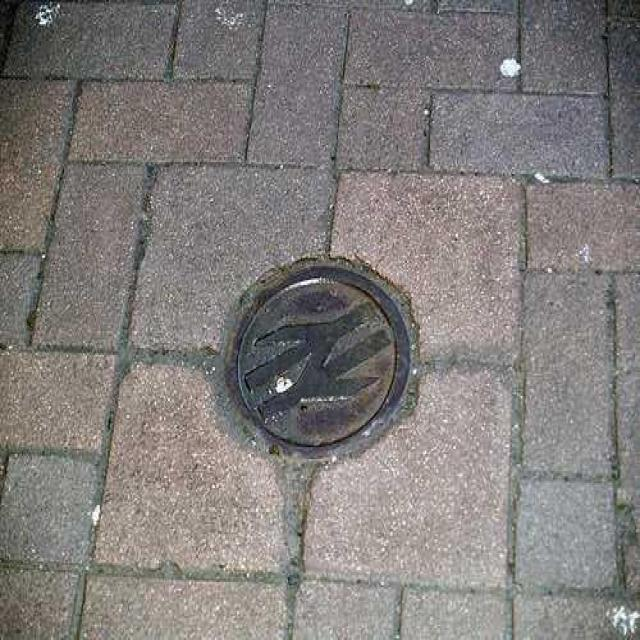manhole: (226, 258, 410, 459)
